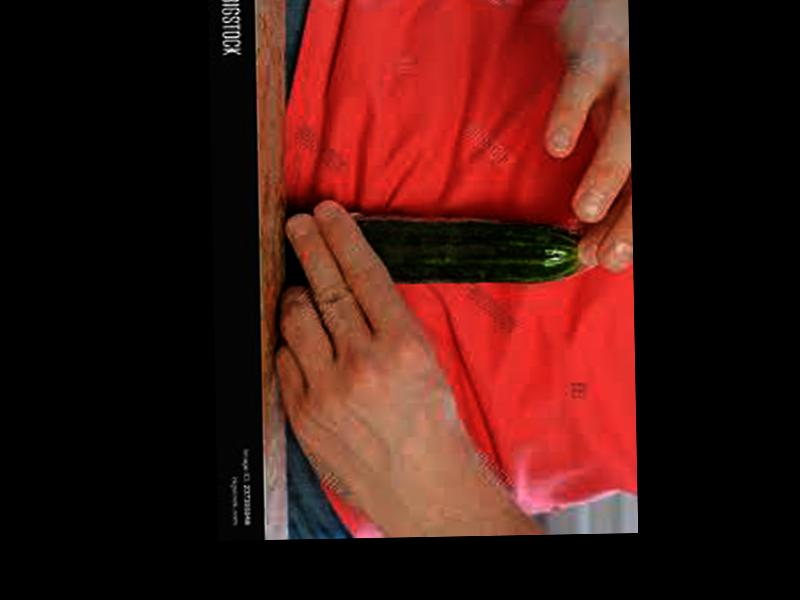Cucumber: (354, 212, 580, 287)
